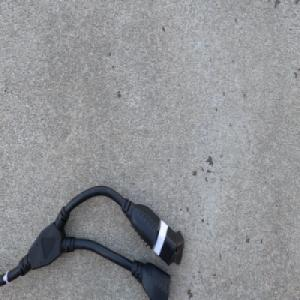Wire: (0, 184, 186, 300)
